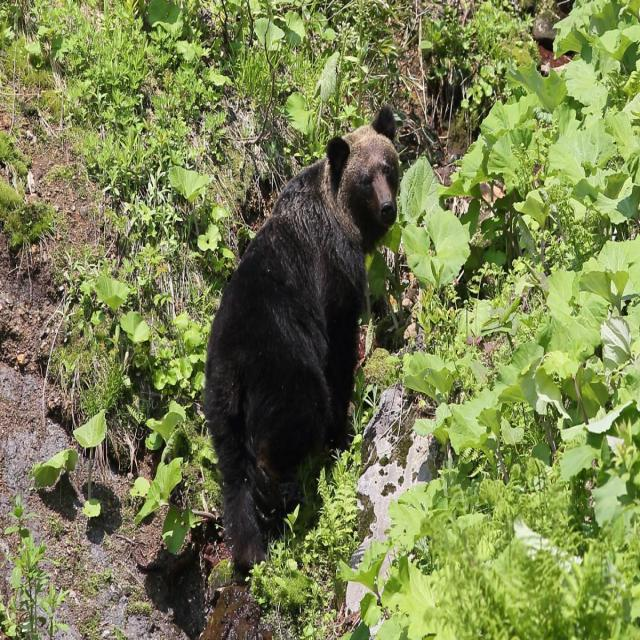Bear: (202, 128, 403, 589)
